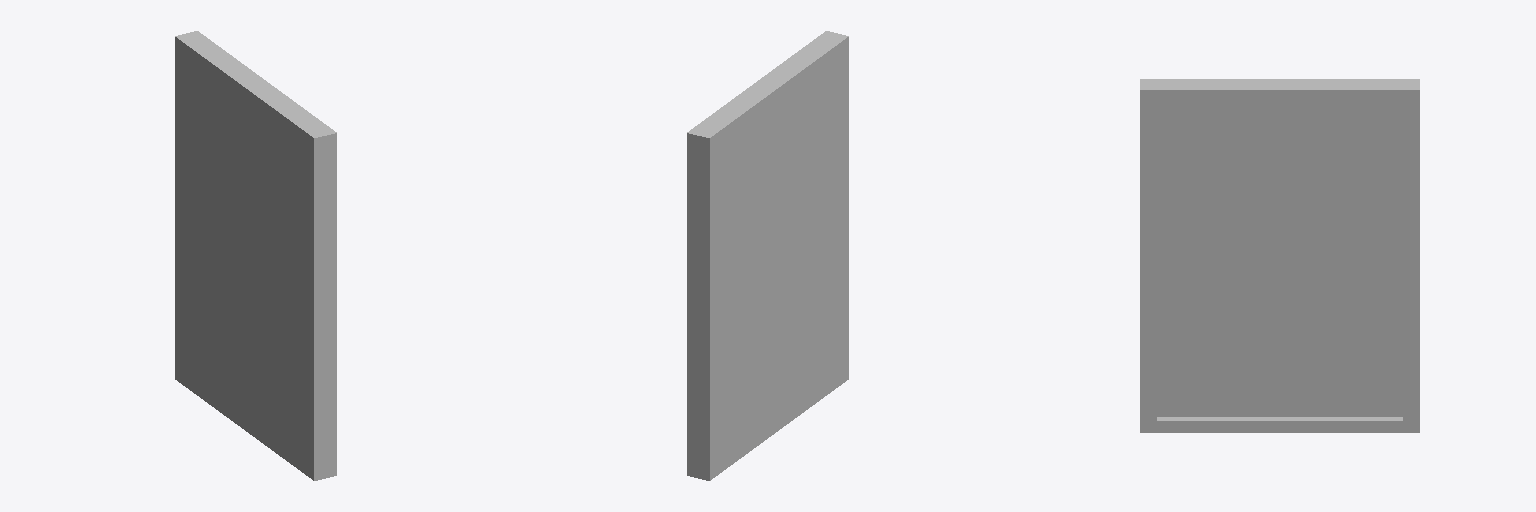
File: quadro_01.obj
3 views of the same model, side by side, from view 1: azimuth 30°, elevation 25°; view 2: azimuth 150°, elevation 25°; view 3: azimuth 270°, elevation 25° (orthographic).
Parts seen in each view (by area): view 1: Cube.007_Cube.012; view 2: Cube.007_Cube.012; view 3: Cube.007_Cube.012.
Part boxes in pixels (left/top/right/bottom): Cube.007_Cube.012: left=175, top=31, right=336, bottom=480; Cube.007_Cube.012: left=687, top=31, right=848, bottom=480; Cube.007_Cube.012: left=1140, top=79, right=1419, bottom=432.
Bounding box in the file's own units: 0.1392 × 2 × 1.48.